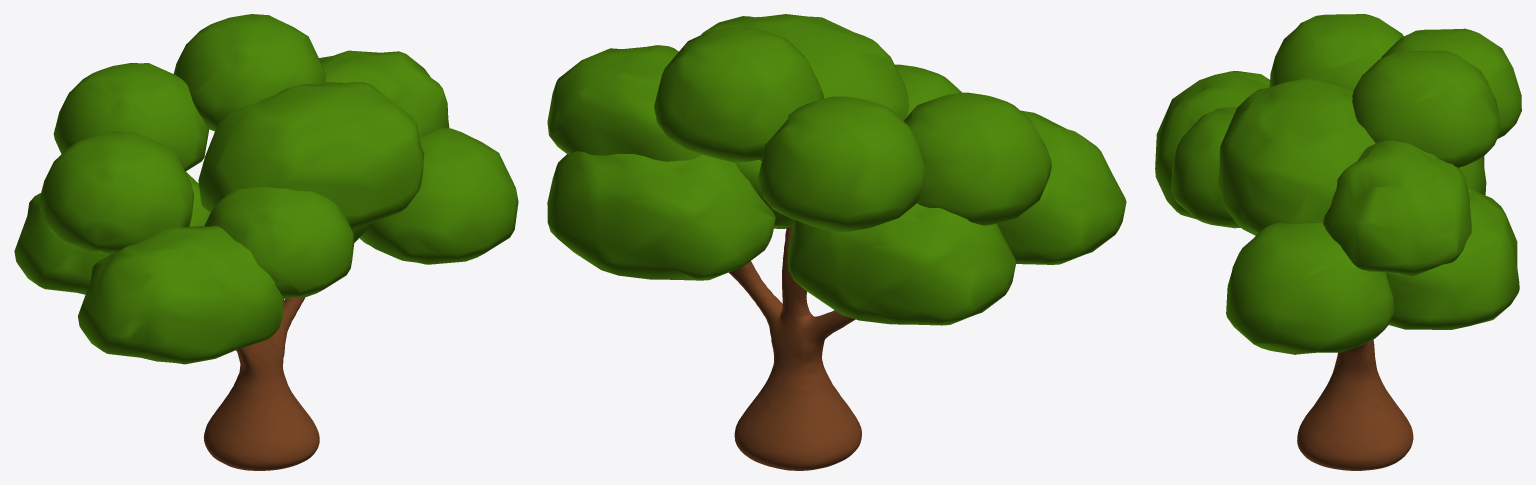
Rendered from carvalho.glb.
3 renders of one model, left to right at view 1: azimuth 30°, elevation 25°; view 2: azimuth 150°, elevation 25°; view 3: azimuth 270°, elevation 25°, orthographic. The views are drawn at different scales.
Visible parts, largest first — view 1: Cube.102, Plane.059; view 2: Cube.102, Plane.059; view 3: Cube.102, Plane.059.
Boxes of the visible parts, bbox=[...] form: Cube.102: bbox=[14, 14, 518, 364]; Plane.059: bbox=[203, 297, 319, 470]; Cube.102: bbox=[547, 14, 1126, 325]; Plane.059: bbox=[728, 225, 861, 470]; Cube.102: bbox=[1155, 14, 1521, 354]; Plane.059: bbox=[1297, 339, 1413, 470].
Size of what is drawn, in the model's own units: 2.25 by 1.92 by 1.56.
